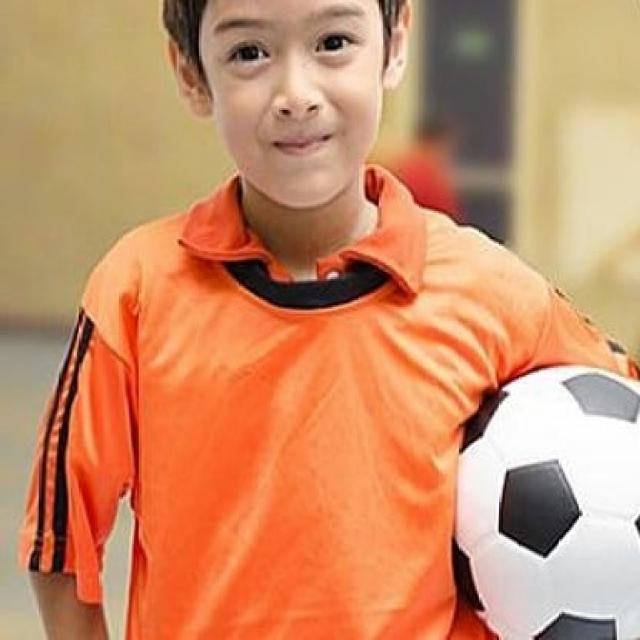child: (18, 0, 638, 640)
